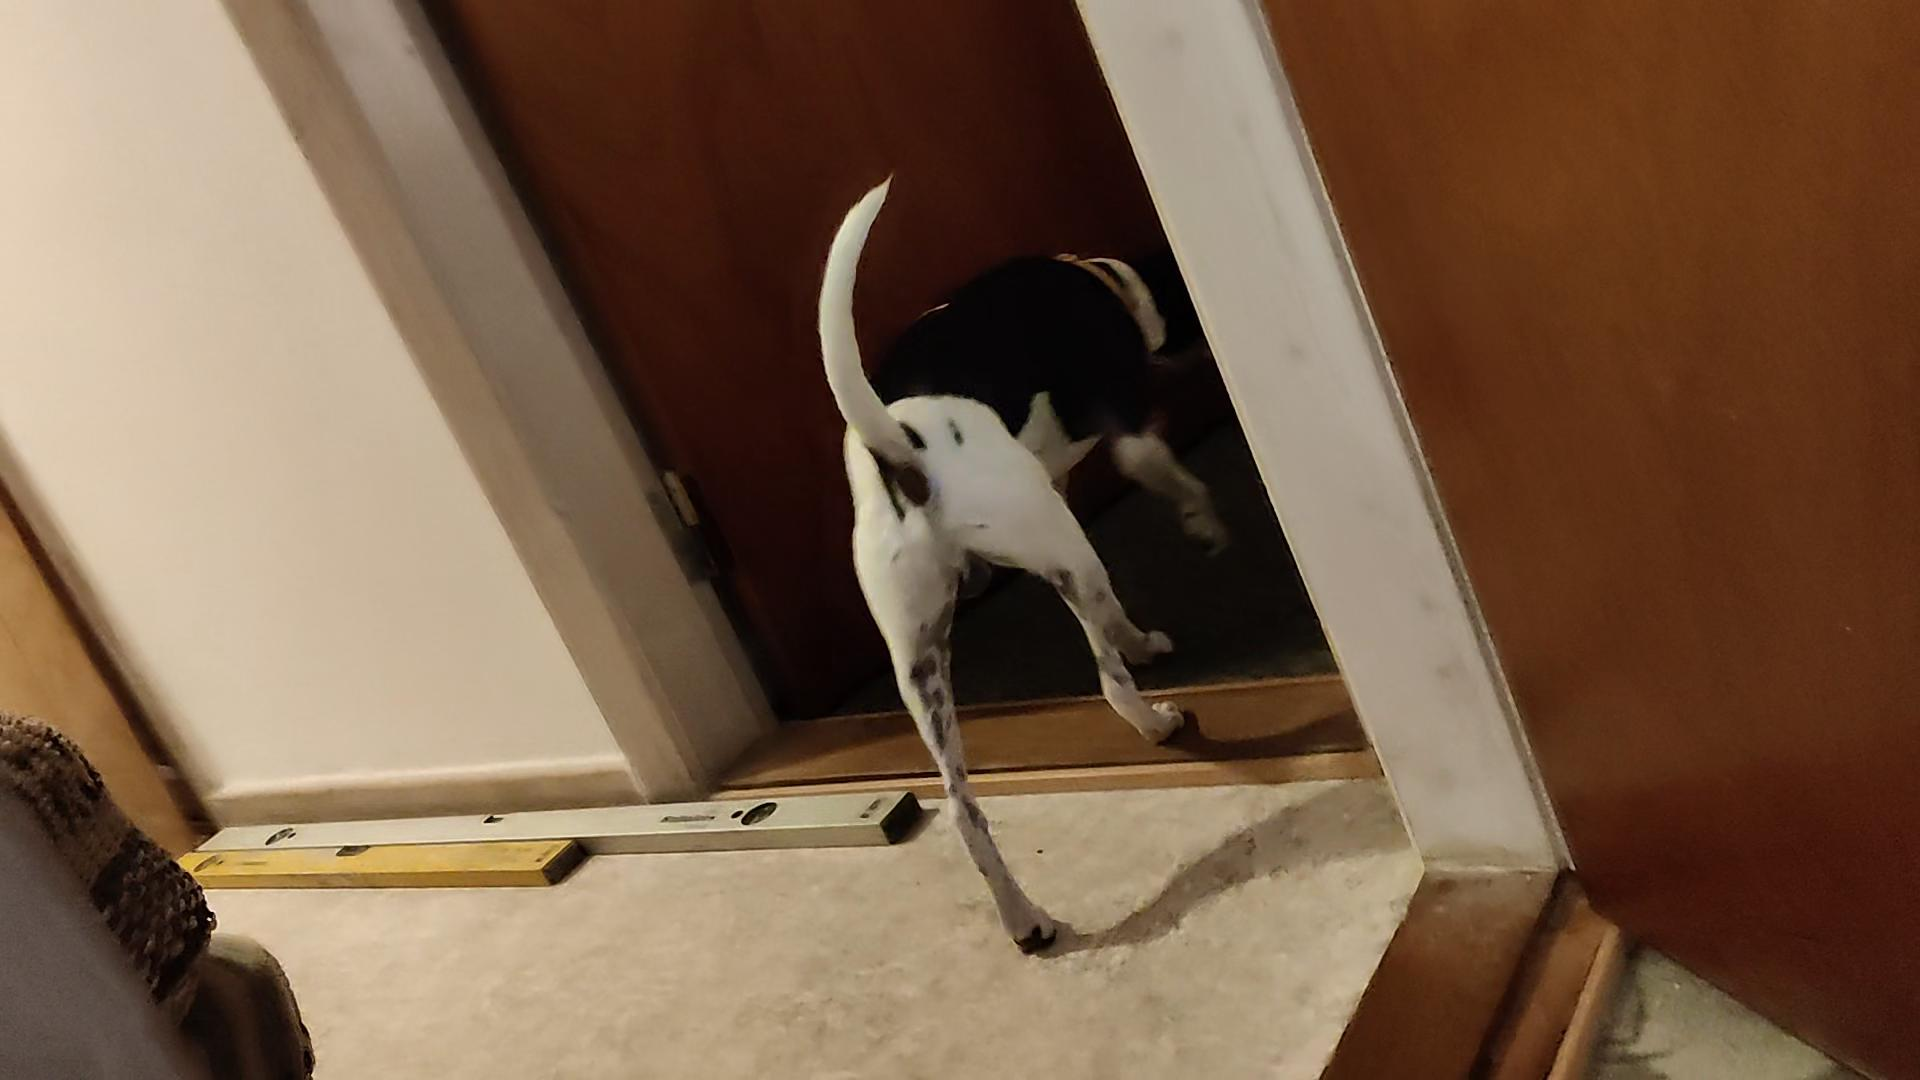Dog: (796, 161, 1270, 990)
